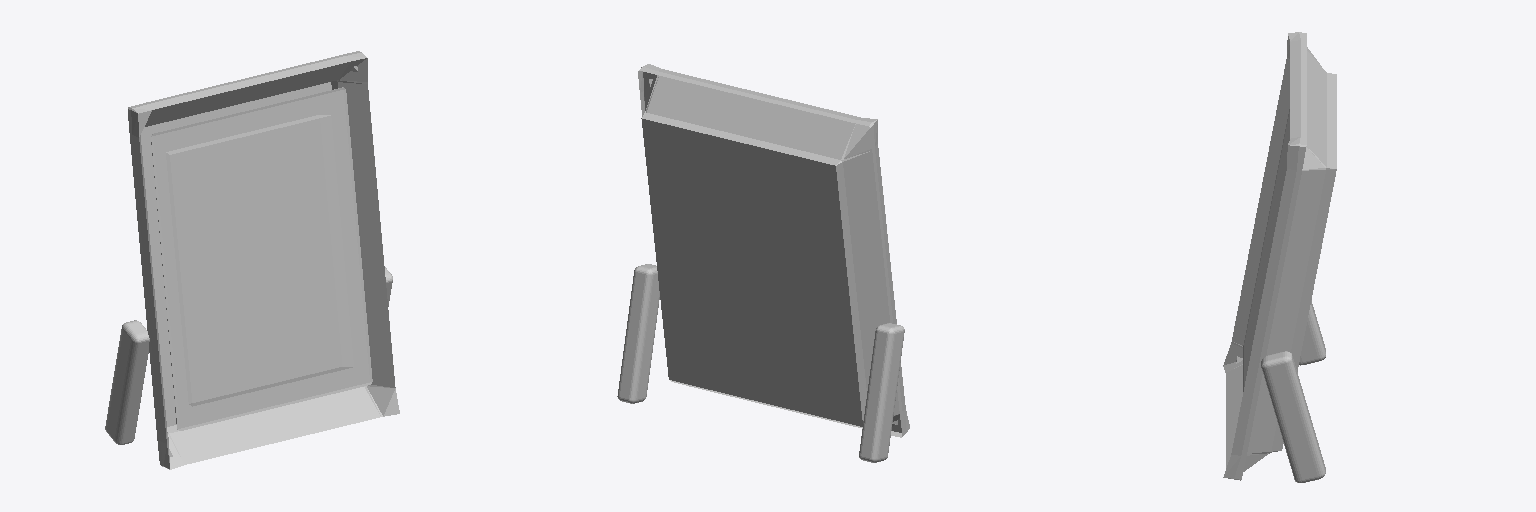
Rendered from espejo.obj.
The picture shows the model from 3 angles: view 1: azimuth 30°, elevation 25°; view 2: azimuth 150°, elevation 25°; view 3: azimuth 270°, elevation 25°; orthographic projection.
Visible parts, largest first — view 1: pCube12; view 2: pCube12; view 3: pCube12.
Part boxes in pixels (x1,y1,x2,y2): pCube12: (105, 51, 399, 469); pCube12: (617, 64, 909, 462); pCube12: (1223, 32, 1336, 482).
Bounding box in the file's own units: 2.8 × 3.46 × 1.06.